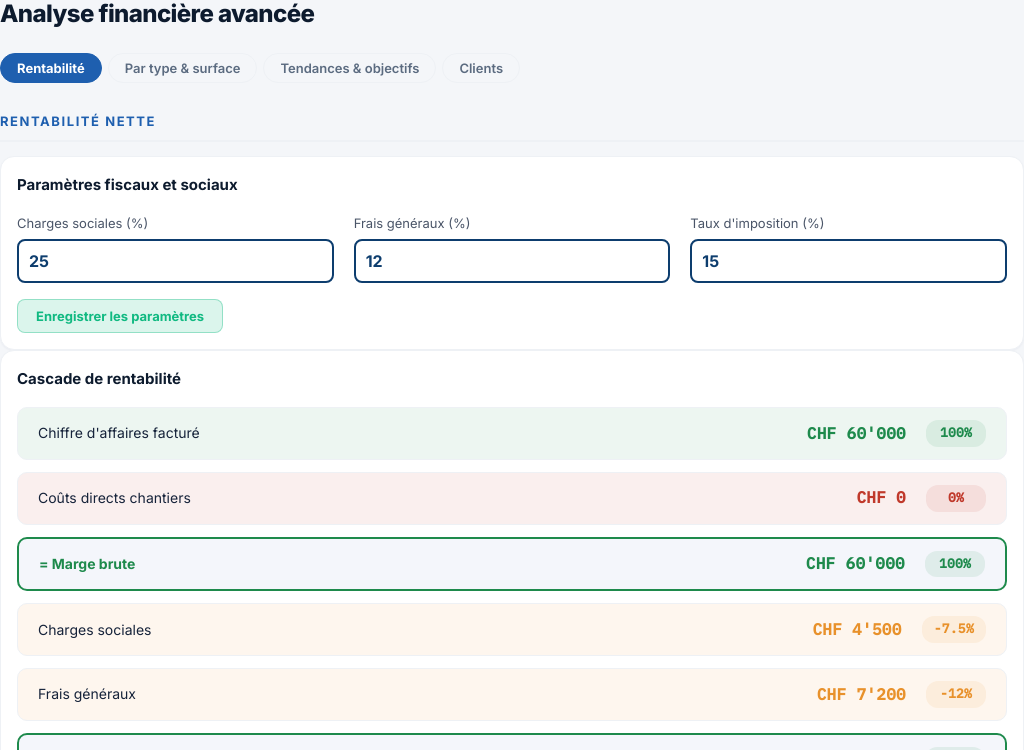
Scenario: DÉRIVE DEVIS — intro + indicateurs + types › affiche l'intro et les 4 indicateurs de dérive
What coordinates should you click on to do the following:
click the button "Clients"
I would click on:
 (481, 68)
Its box is [442,53,520,83].
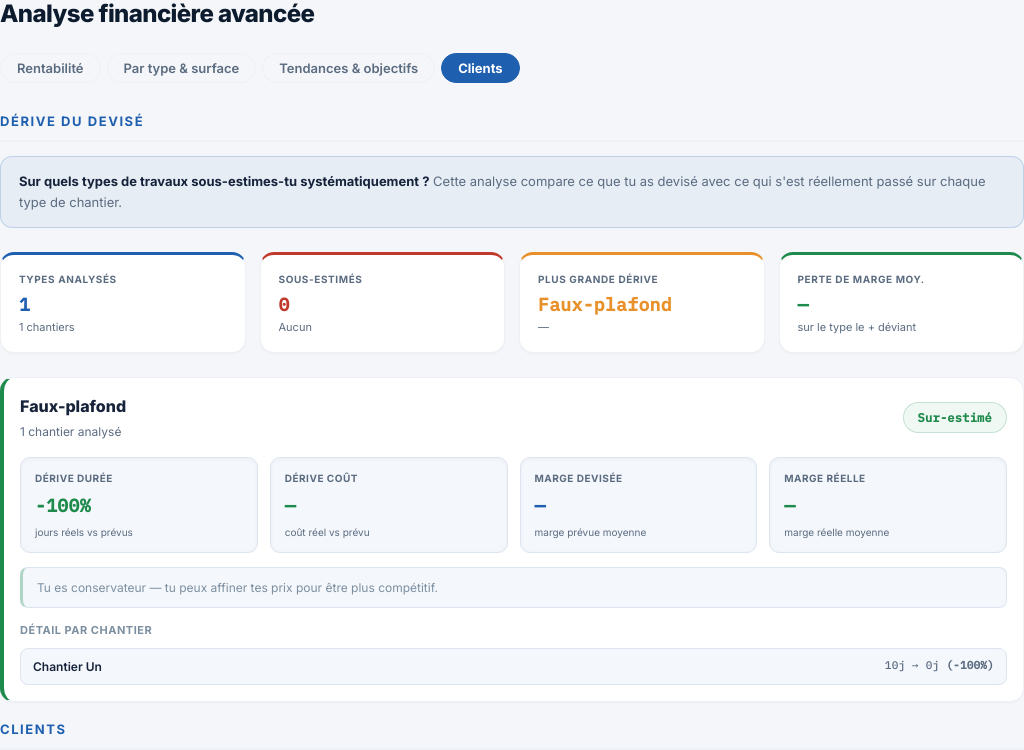
Expected: the text "Sur quels types de travaux sous-estimes-tu" is shown, [19,173,429,189]
Expected: the text "Types analysés" is shown, [19,273,117,285]
Expected: the text "Sous-estimés" is shown, [278,273,362,285]
